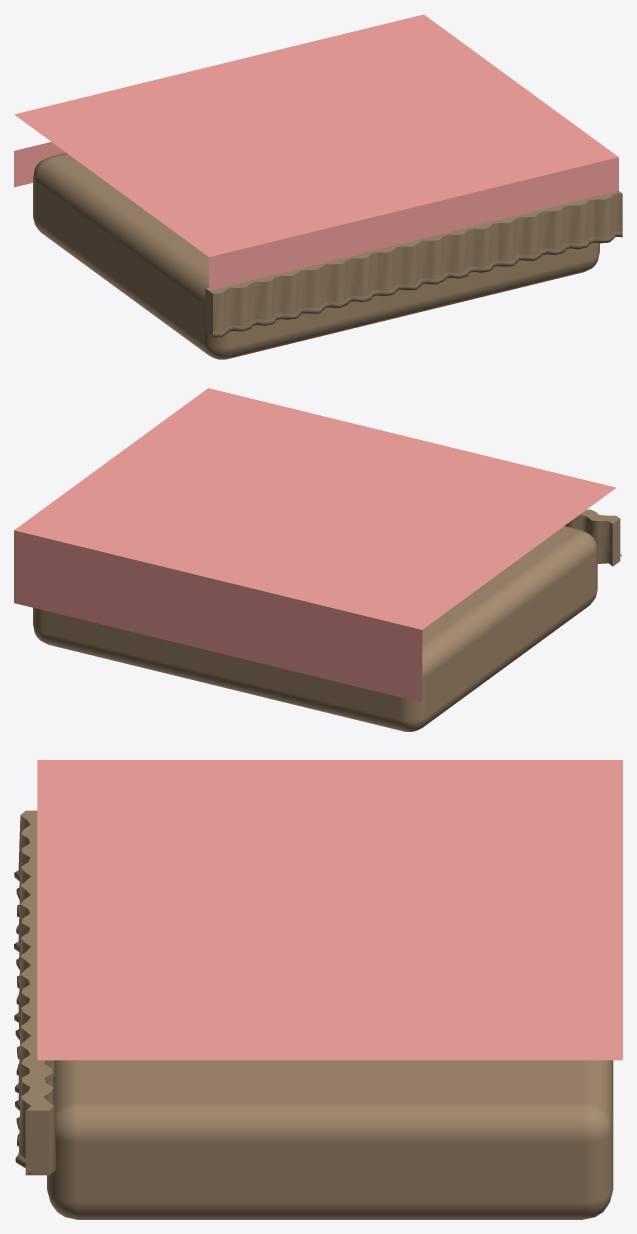
3 views of the same model, one above another, from view 1: azimuth 30°, elevation 25°; view 2: azimuth 150°, elevation 25°; view 3: azimuth 270°, elevation 25° (orthographic). The views are drawn at different scales.
Visible parts, largest first — view 1: cover-native-outer-flap, cover-compressed-layers, cover-gathered-cuff, cover-elastic-hem; view 2: cover-native-outer-flap, cover-compressed-layers, cover-gathered-cuff; view 3: cover-native-outer-flap, cover-compressed-layers, cover-gathered-cuff, cover-elastic-hem.
Boxes of the visible parts, <box> form: cover-native-outer-flap: <box>14,14,618,290</box>; cover-compressed-layers: <box>33,153,599,359</box>; cover-gathered-cuff: <box>205,191,622,335</box>; cover-elastic-hem: <box>212,231,622,337</box>; cover-native-outer-flap: <box>14,388,615,702</box>; cover-compressed-layers: <box>33,526,597,731</box>; cover-gathered-cuff: <box>565,509,620,566</box>; cover-native-outer-flap: <box>37,760,622,1060</box>; cover-compressed-layers: <box>47,1060,613,1219</box>; cover-gathered-cuff: <box>18,810,56,1175</box>; cover-elastic-hem: <box>14,870,30,1174</box>.
Bounding box in the file's own units: 0.3725 × 0.101 × 0.3172.
